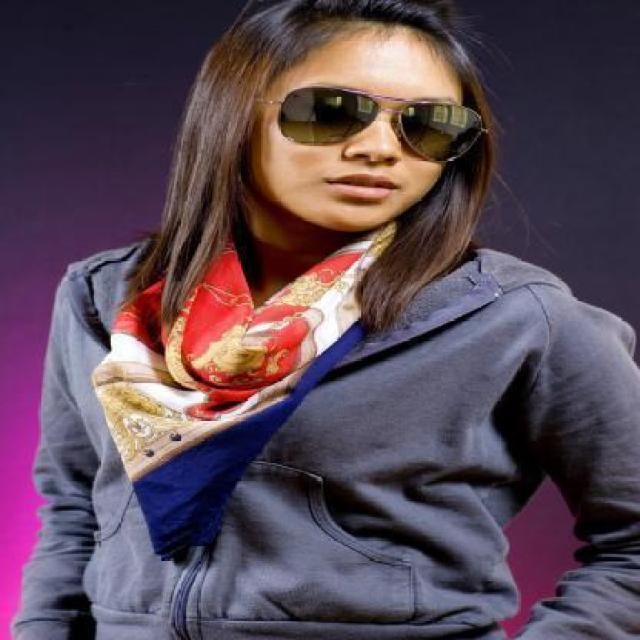face_nomask: (281, 73, 454, 215)
glasses: (262, 78, 484, 148)
head_nohelmet: (236, 2, 469, 73)
person: (53, 0, 544, 640)
